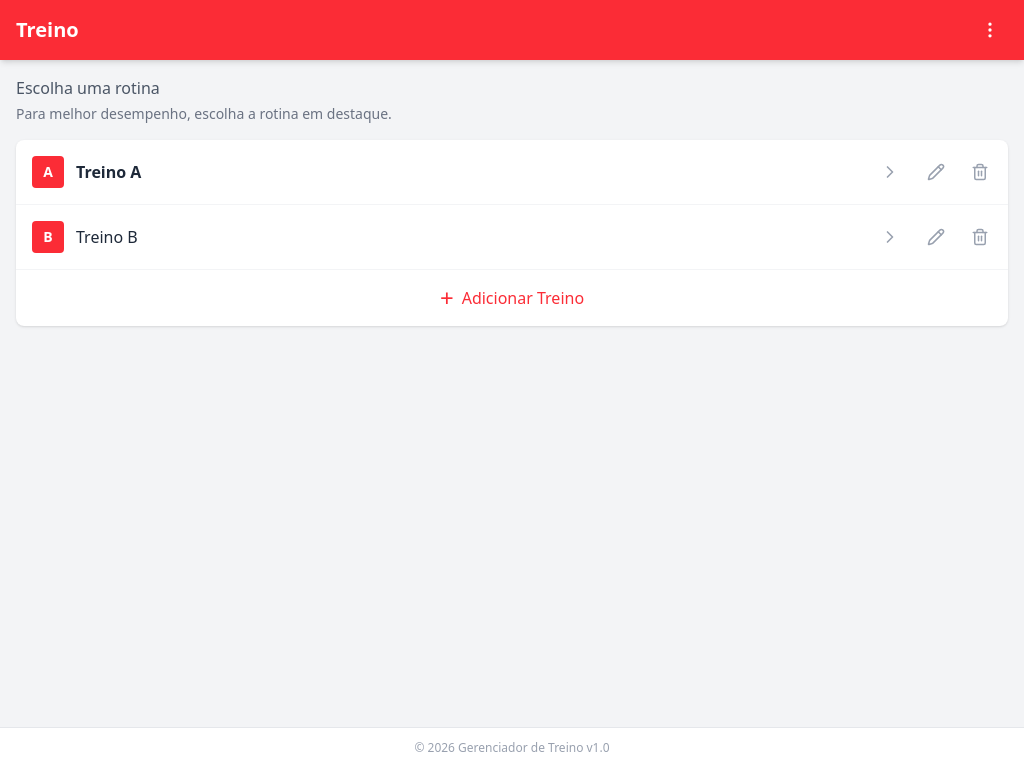
Scenario: WorkoutList › renders export and import buttons in menu
Click the 1st button.
click(990, 30)  # box [972,12,1008,48]
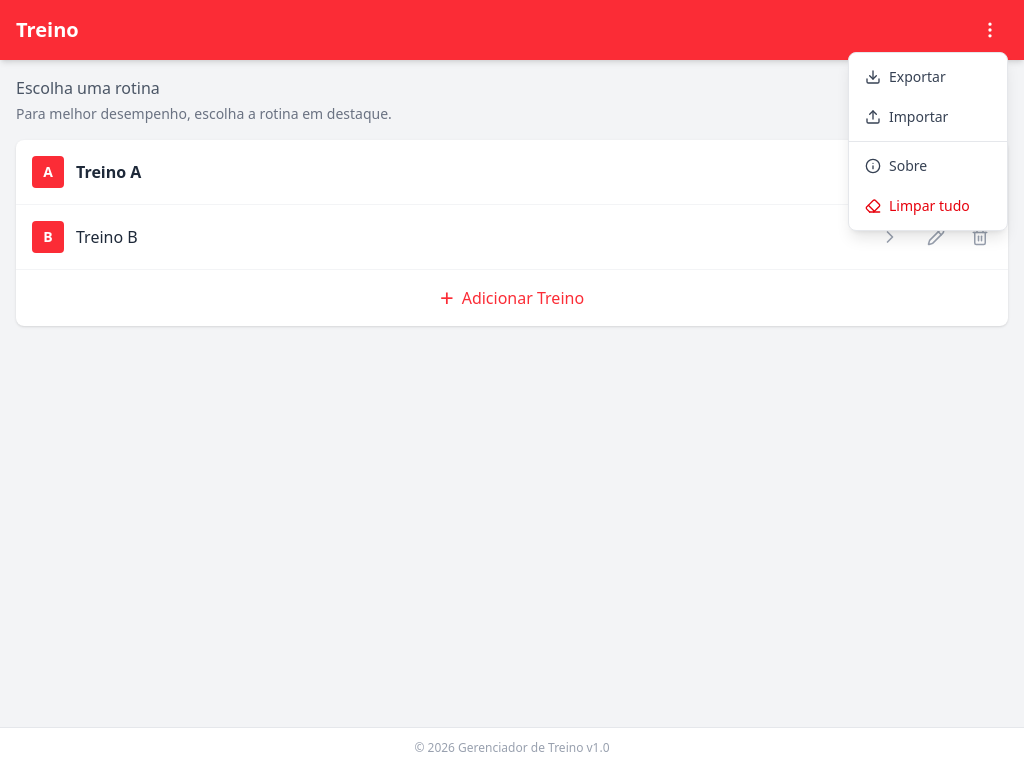
Result: the button "Exportar" is shown at [849,57,1007,97]
Result: the button "Importar" is shown at [849,97,1007,137]
